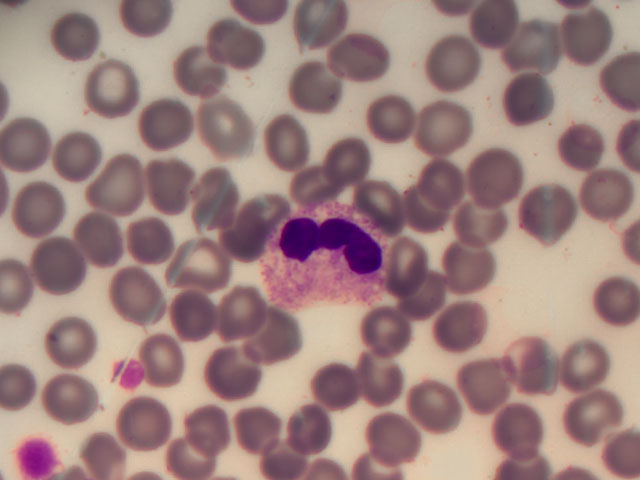Platelets: (12, 432, 62, 480), (107, 357, 145, 390)
RBC: (48, 9, 100, 63), (88, 60, 140, 114), (140, 95, 192, 149), (53, 127, 105, 181), (8, 119, 60, 173), (16, 183, 68, 237), (33, 240, 85, 294), (66, 214, 118, 268), (95, 158, 147, 212), (143, 160, 195, 214), (124, 213, 176, 267), (108, 270, 160, 324), (41, 315, 93, 369), (48, 372, 100, 426), (141, 335, 193, 389), (165, 295, 217, 349), (174, 236, 226, 290), (208, 215, 260, 269), (235, 187, 287, 241), (192, 171, 244, 225), (201, 102, 253, 156), (175, 45, 227, 99), (209, 23, 261, 77), (296, 61, 348, 115), (335, 33, 387, 87), (295, 1, 347, 55), (367, 95, 419, 149), (328, 134, 380, 188), (291, 161, 343, 215), (269, 120, 321, 174), (369, 174, 421, 228), (410, 184, 462, 238), (418, 157, 470, 211), (421, 108, 473, 162), (429, 44, 481, 98), (471, 3, 523, 57), (507, 23, 559, 77), (507, 72, 559, 126), (557, 13, 609, 67), (555, 122, 607, 176), (581, 159, 633, 213), (525, 194, 577, 248), (469, 149, 521, 203), (465, 189, 517, 243), (441, 235, 493, 289), (434, 294, 486, 348), (411, 274, 463, 328), (371, 300, 423, 354), (352, 346, 404, 400), (306, 362, 358, 416), (252, 313, 304, 367), (213, 290, 265, 344), (211, 343, 263, 397), (193, 390, 245, 444), (167, 426, 219, 480), (117, 397, 169, 451), (229, 400, 281, 454), (285, 403, 337, 457), (366, 413, 418, 467), (411, 378, 463, 432), (454, 359, 506, 413), (497, 339, 549, 393), (555, 332, 607, 386), (588, 275, 640, 329), (568, 386, 620, 440), (495, 402, 547, 456)
WBC: (272, 202, 393, 305)
